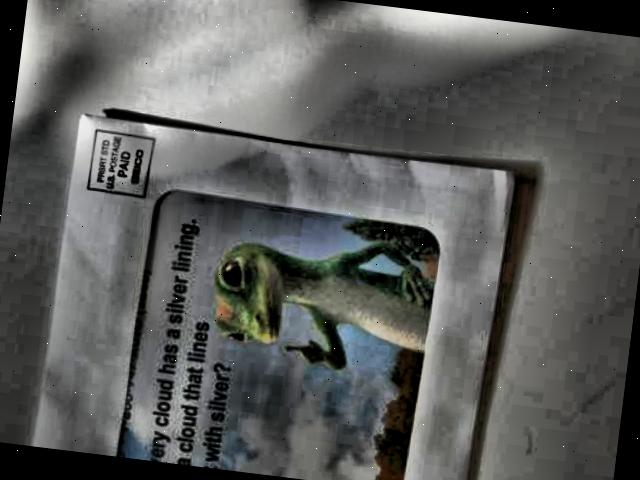Paper: (34, 106, 522, 480)
